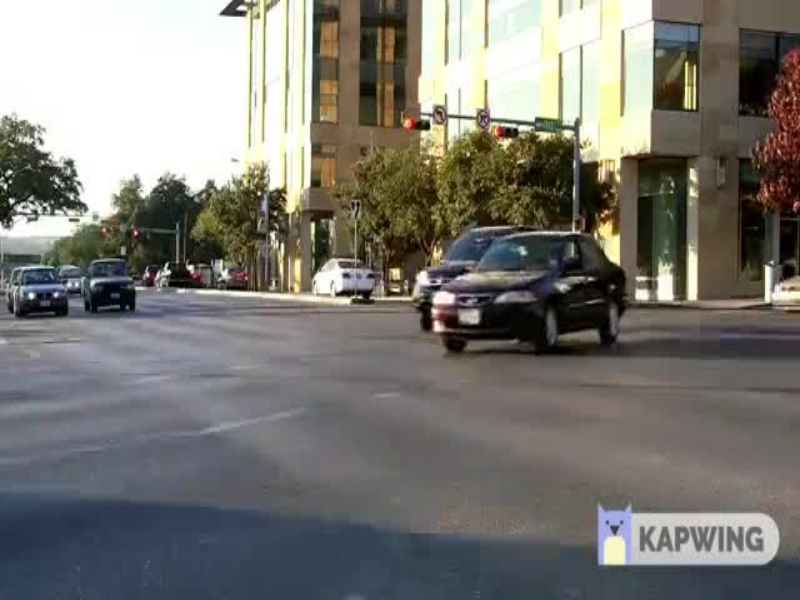car: (426, 226, 634, 368), (87, 259, 156, 329), (3, 260, 72, 322), (305, 251, 382, 298)
